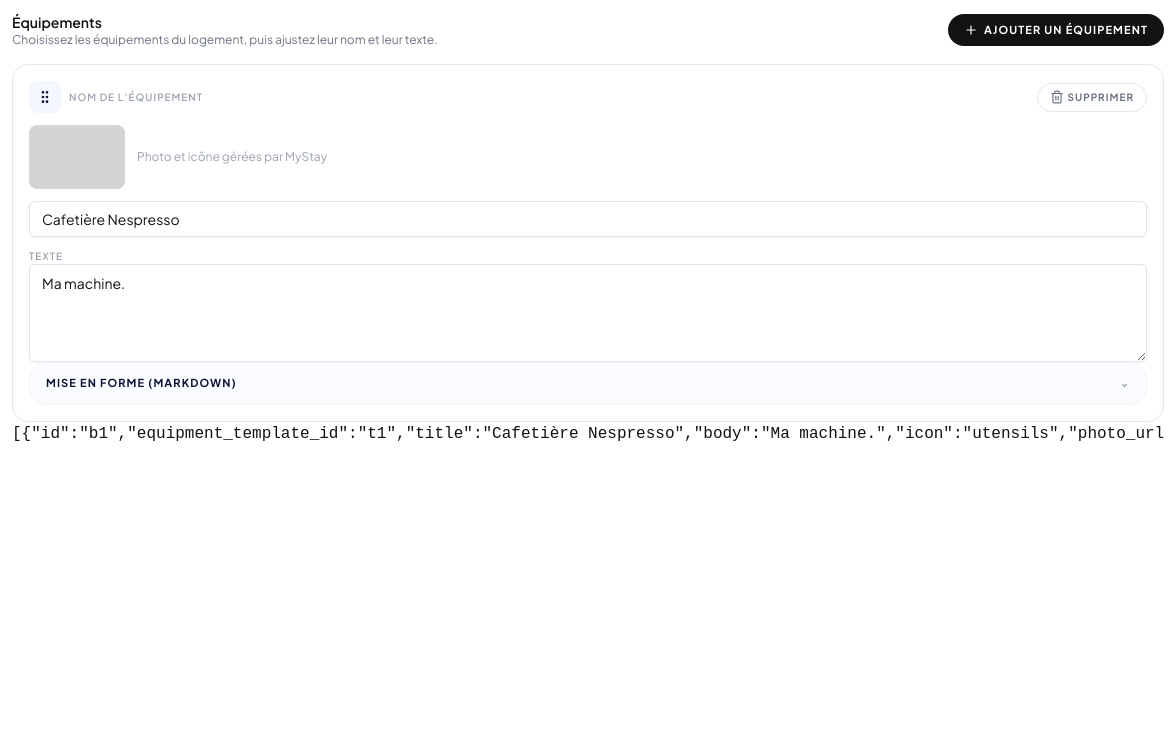
spec 096 US-02 — équipements choisis dans la bibliothèque › AC-02-01 : « Ajouter un équipement » ouvre la bibliothèque privée des équipements déjà présents ; pas de saisie libre
Click the button "Ajouter un équipement": click(1056, 30) [948,14,1164,46]
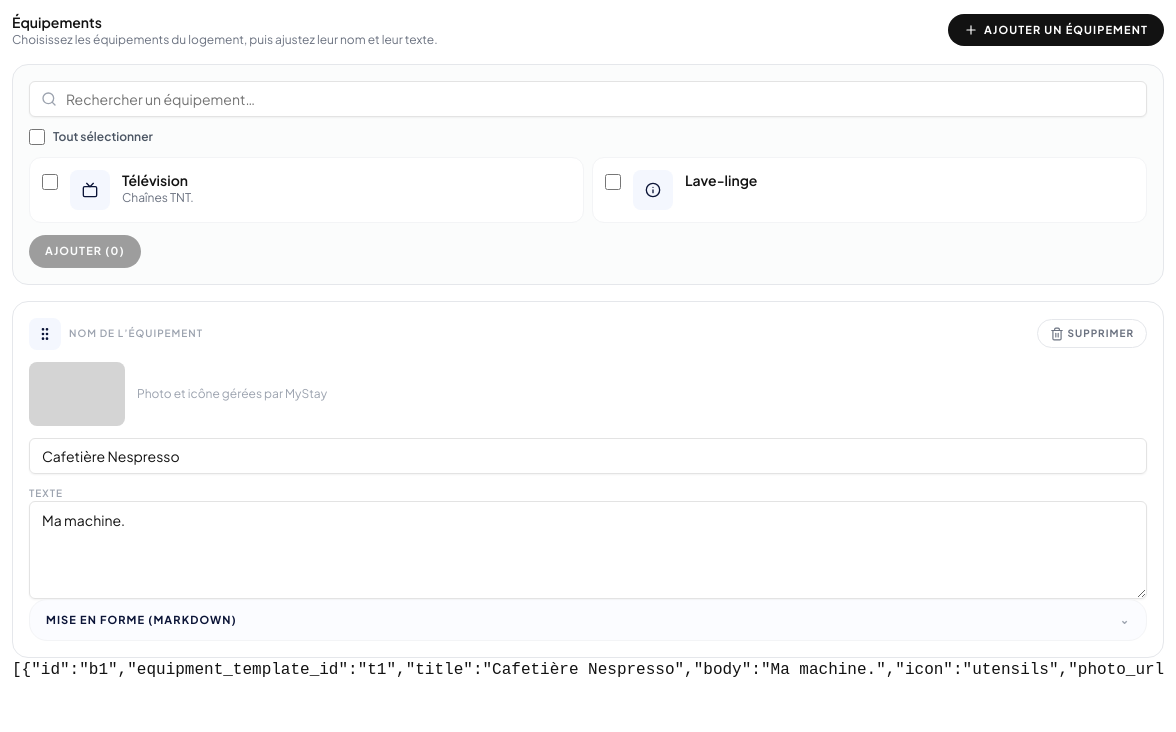
Now the text "Télévision" is shown, box [122,170,194,190]
Now the text "Lave-linge" is shown, box [685,170,757,190]
